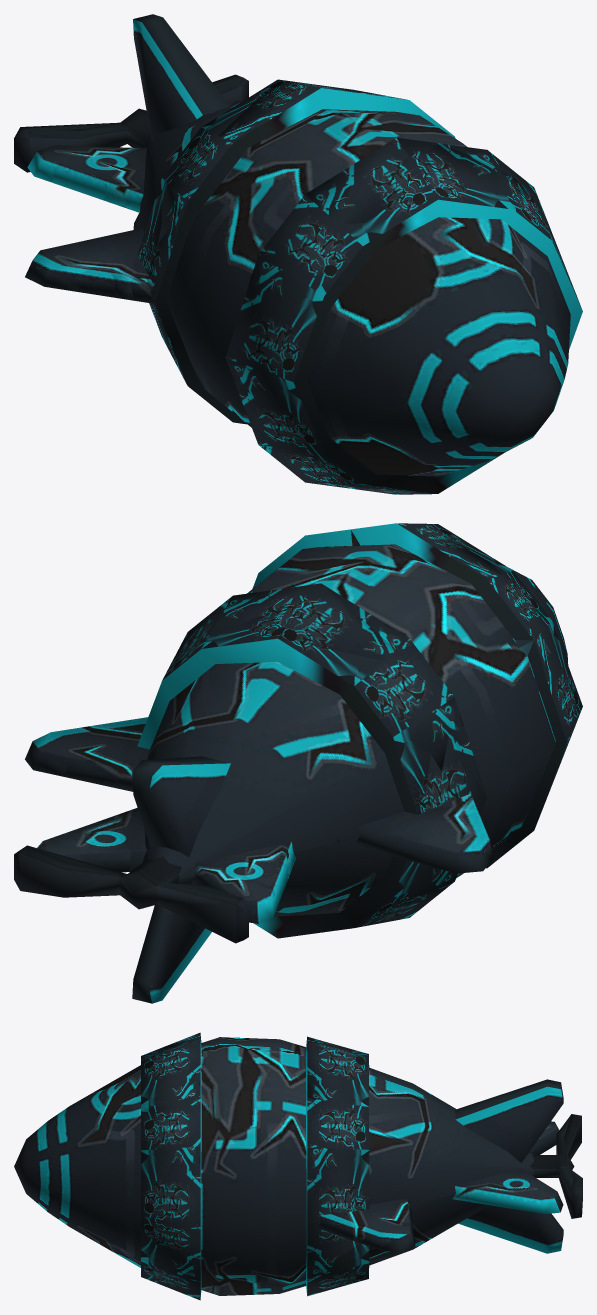
The model's file is DDT.fbx.
The picture shows the model from 3 angles, top to bottom: view 1: azimuth 30°, elevation 25°; view 2: azimuth 150°, elevation 25°; view 3: azimuth 270°, elevation 25°; orthographic projection. The views are drawn at different scales.
Parts seen in each view (by area): view 1: Body, Fortification, Fortification4, Fortification2, FinRightDamage, BrokenPropeller, FinRight, Fortification3, Body3, Fortification1, Propeller; view 2: Body, Fortification, Fortification1, Fortification4, FinRight, BrokenPropeller, Fortification2, Fortification3, Propeller, FinRightDamage, Body2, Body3 (+1 smaller); view 3: Body, Fortification, Fortification2, Fortification4, Fortification3, Fortification1, Body1, BrokenPropeller, Propeller, Body2.
Part boxes in pixels (x1,y1,x2,y2): Body: [27, 14, 570, 476]; Fortification: [137, 80, 582, 494]; Fortification4: [191, 79, 513, 255]; Fortification2: [259, 85, 437, 259]; FinRightDamage: [41, 228, 154, 302]; BrokenPropeller: [14, 74, 248, 172]; FinRight: [25, 228, 154, 303]; Fortification3: [137, 168, 550, 296]; Body3: [35, 145, 145, 212]; Fortification1: [204, 87, 581, 307]; Propeller: [20, 78, 243, 130]; Body: [25, 544, 568, 1003]; Fortification: [162, 523, 582, 938]; Fortification1: [137, 638, 417, 927]; Fortification4: [209, 523, 533, 694]; FinRight: [354, 793, 492, 873]; BrokenPropeller: [14, 845, 248, 943]; Fortification2: [209, 523, 502, 638]; Fortification3: [393, 697, 486, 814]; Propeller: [28, 845, 242, 943]; FinRightDamage: [360, 797, 488, 851]; Body2: [45, 808, 146, 871]; Body3: [199, 843, 295, 915]; Body: [14, 1037, 563, 1295]; Fortification: [141, 1036, 369, 1300]; Fortification2: [143, 1032, 369, 1277]; Fortification4: [141, 1040, 368, 1222]; Fortification3: [141, 1100, 367, 1280]; Fortification1: [141, 1040, 369, 1222]; Body1: [322, 1199, 415, 1244]; BrokenPropeller: [530, 1114, 582, 1218]; Propeller: [558, 1114, 581, 1218]; Body2: [457, 1177, 548, 1199].
Size of the model in its own units: 35.34 by 26.31 by 53.46.
